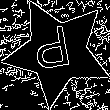P_S: (35, 24, 80, 80)
